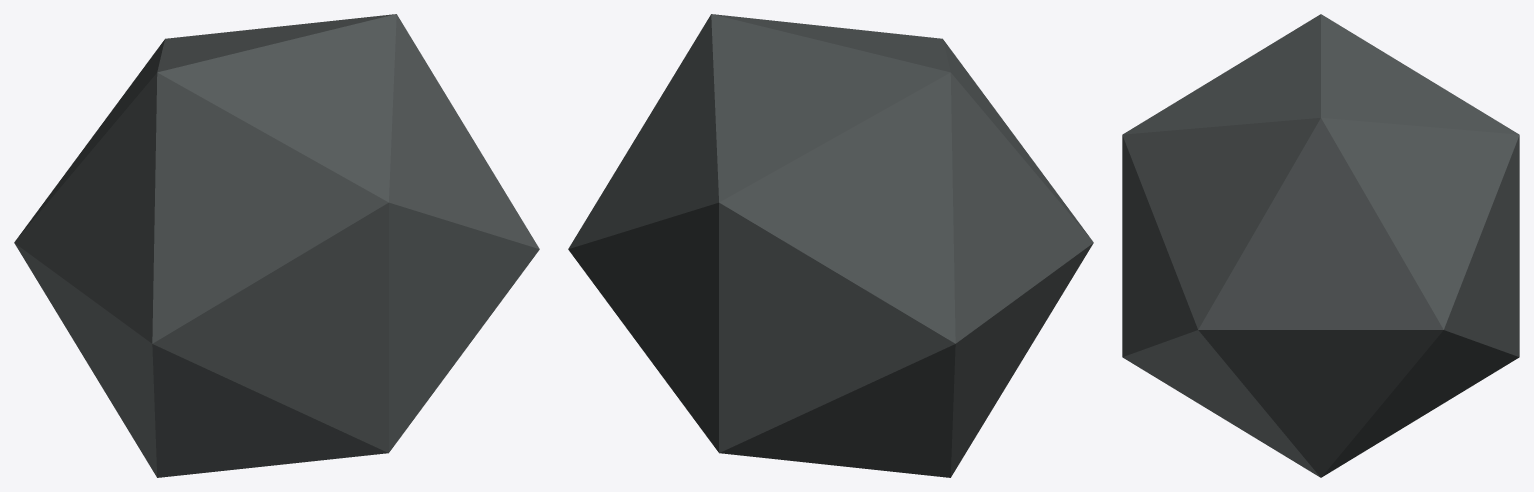
File: icosahedron.obj
The picture shows the model from 3 angles, left to right: view 1: azimuth 30°, elevation 25°; view 2: azimuth 150°, elevation 25°; view 3: azimuth 270°, elevation 25°; orthographic projection. The views are drawn at different scales.
Visible parts, largest first — view 1: object; view 2: object; view 3: object.
Part boxes in pixels (x1,y1,x2,y2): object: [14, 14, 539, 477]; object: [568, 14, 1093, 477]; object: [1122, 14, 1519, 477].
Size of the model in its own units: 1 by 1 by 1.
